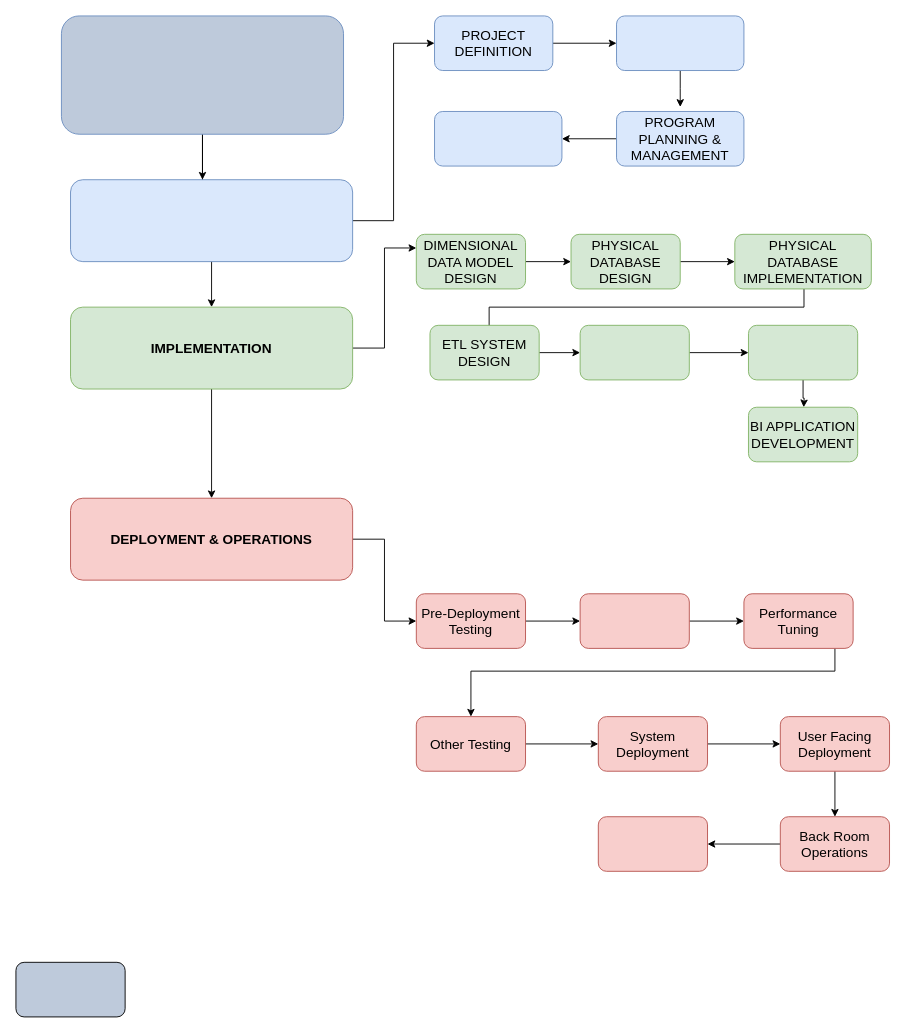
This 905x1033 diagram has some shape labels left out. The box of each missing label's shape, as (x1, y1, x2, y2) in pixels:
BI APPLICATION DESIGN: (748, 324, 858, 380)
BUSINESS REQUIREMENTS DEFINITION: (434, 111, 562, 166)
Data and Process Testing: (579, 593, 689, 648)
ETL SYSTEM DEVELOPMENT: (579, 324, 689, 380)
Front Room Operations: (597, 816, 708, 871)
Nombre Del Proyecto: (61, 15, 344, 134)
PROJECT PLANNING & MANAGEMENT: (616, 15, 744, 71)
PROJECT/PROGRAM LAUNCH AND MANAGEMENT: (70, 179, 353, 262)
